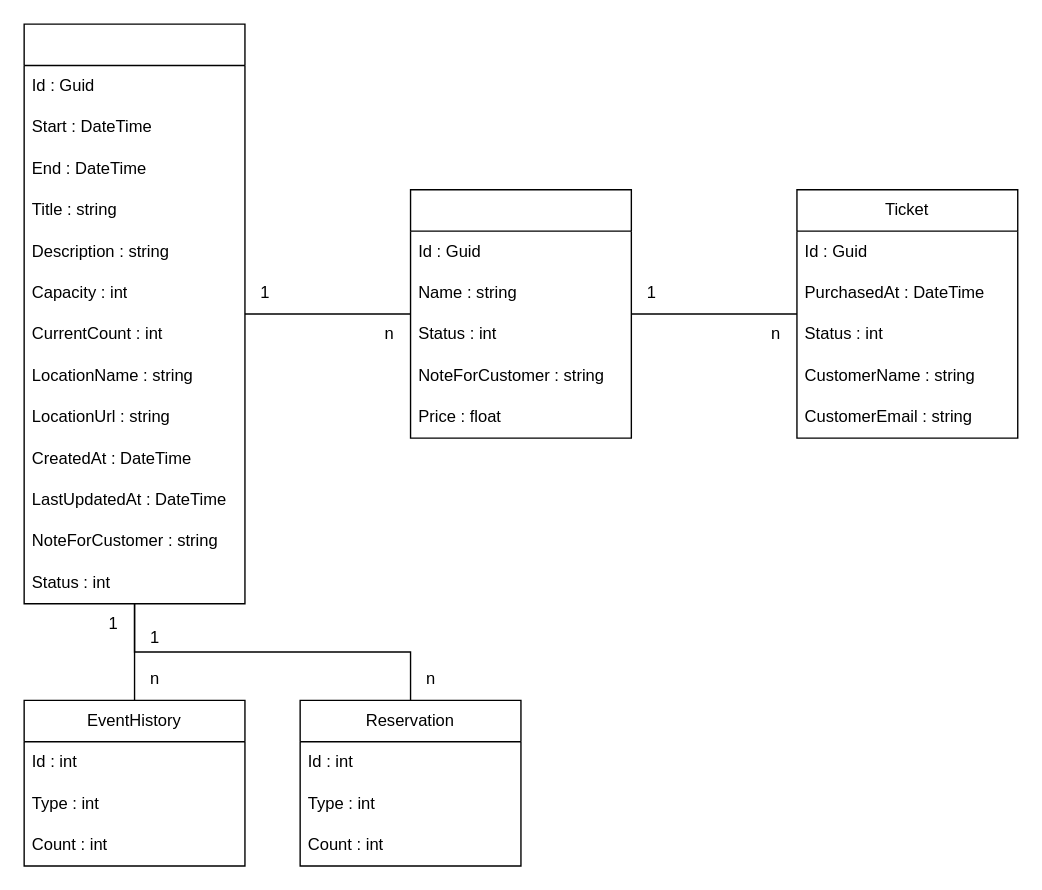
Image size: 1042x890. Some labels were removed from this diagram. Here are the shapes that lost their labels. From the top down, the box of each, then its label:
(23, 23, 245, 604): Event
(409, 188, 631, 438): TicketCategory
